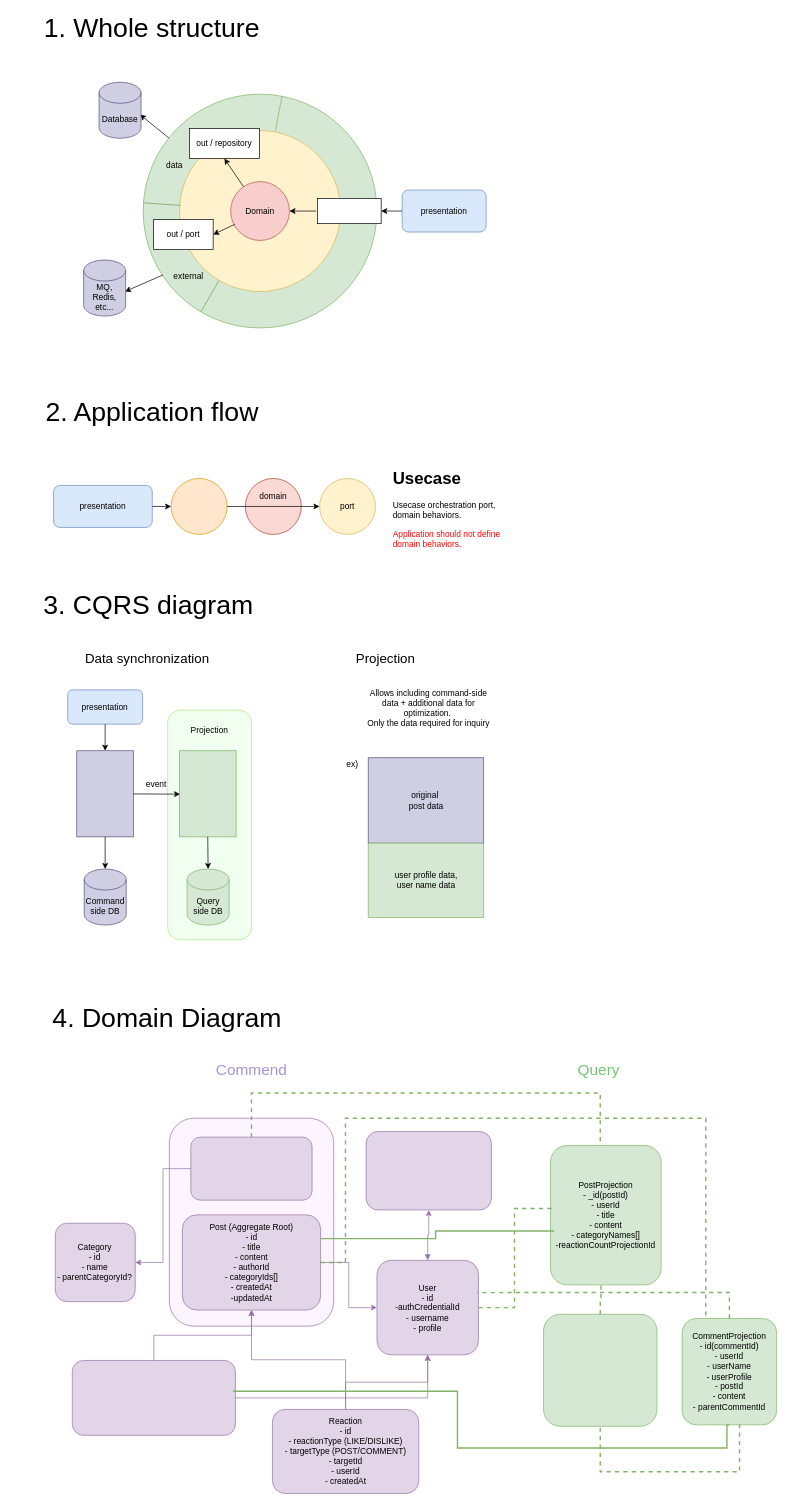
Image size: 789x1506. Some labels were removed from this diagram. The shapes that lost their labels are listed below. From the top down, each one's box as (x1, y1, x2, y2) in pixels, then its label:
(142, 93, 377, 328): infrastructure
(179, 130, 341, 292): application
(317, 198, 381, 224): in / usecase
(170, 478, 227, 534): usecase
(76, 750, 133, 837): command side
(179, 750, 236, 837): query side
(190, 1136, 312, 1200): PostCategoryAssignment - id - post(Object) - categoryId
(365, 1131, 491, 1210): AuthCredential - id - userId - authProvider(GOOGLE, GITHUB) - email
(543, 1314, 657, 1426): ReactionCountProjection - id - targetId - likeCount - dislikeCount
(72, 1360, 235, 1435): Comment - id - postId - authorId - content - parentCommentId?
